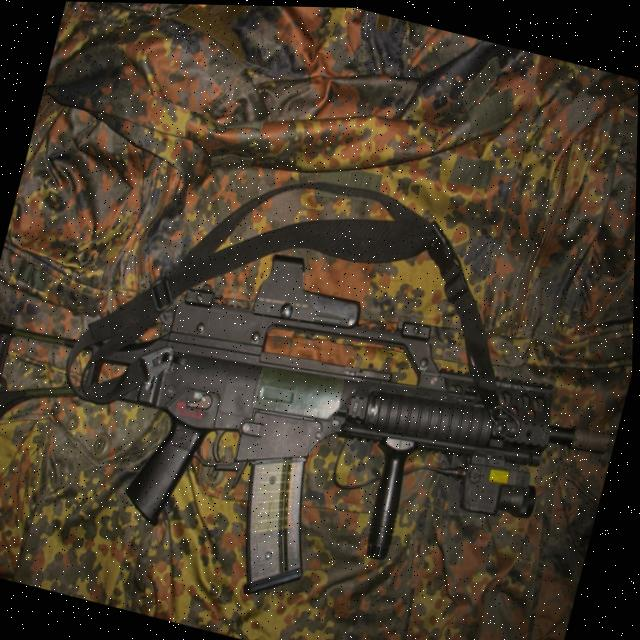firearm: (0, 185, 637, 640)
